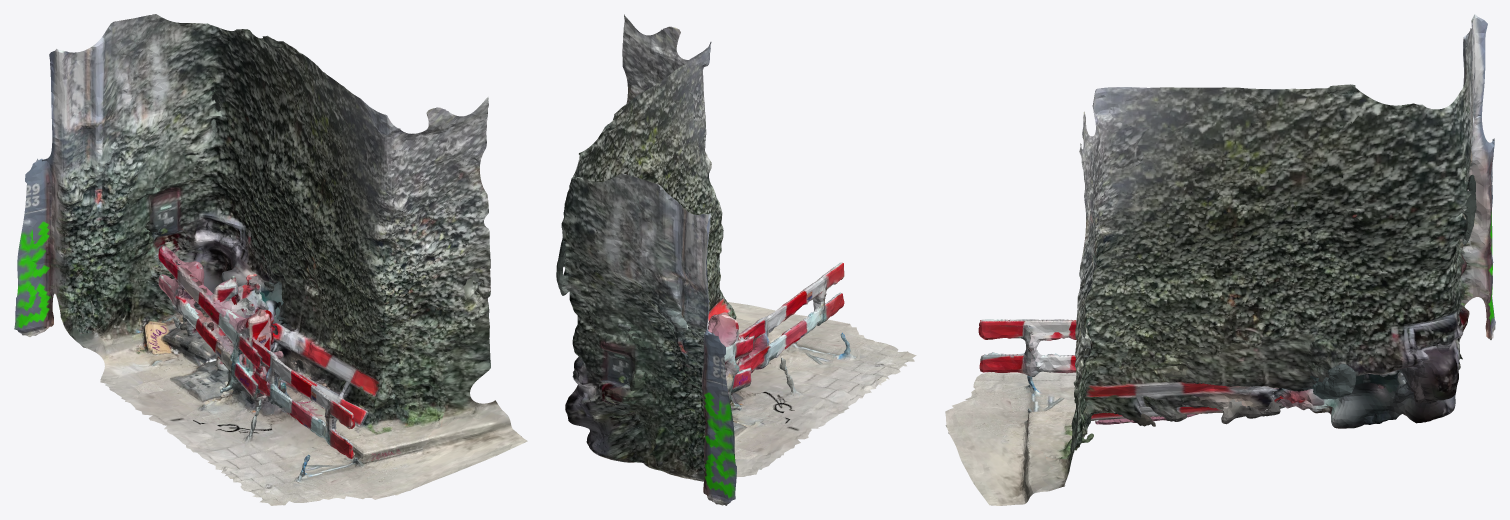
File: S015_Barriers.glb
3 views of the same model, side by side, from view 1: azimuth 30°, elevation 25°; view 2: azimuth 150°, elevation 25°; view 3: azimuth 270°, elevation 25° (orthographic). The views are drawn at different scales.
Visible parts, largest first — view 1: Object_4; view 2: Object_4; view 3: Object_4.
Part boxes in pixels (x1,y1,x2,y2): Object_4: [14, 14, 527, 505]; Object_4: [556, 14, 916, 505]; Object_4: [945, 14, 1495, 505].
Bounding box in the file's own units: 4.13 × 4.29 × 5.84.
Materials: 1 (1 with a texture image).
